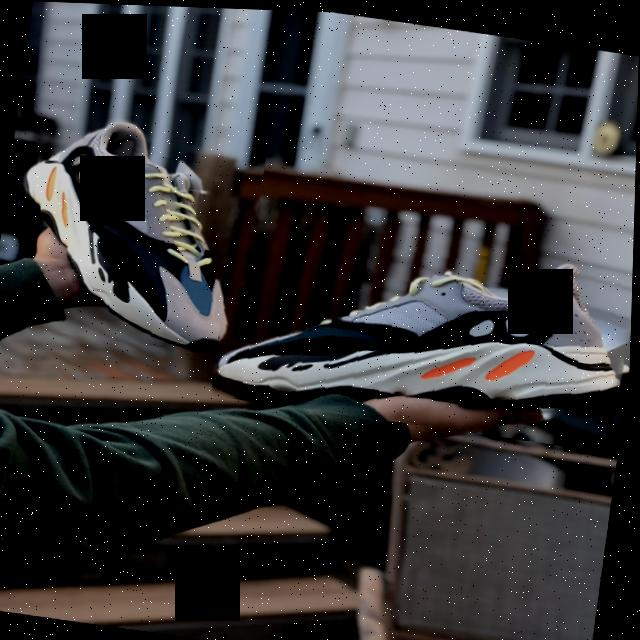shoe: (211, 208, 635, 449), (0, 99, 270, 356)
